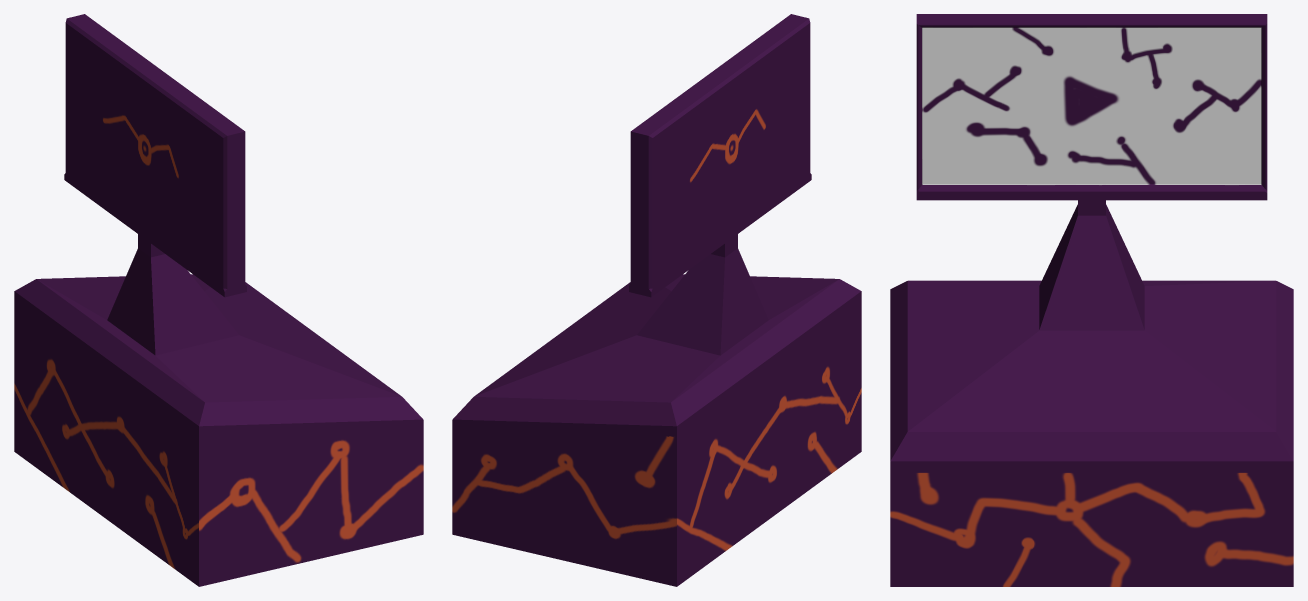
File: SpaceBox2.fbx
3 renders of one model, left to right at view 1: azimuth 30°, elevation 25°; view 2: azimuth 150°, elevation 25°; view 3: azimuth 270°, elevation 25°, orthographic. The views are drawn at different scales.
Visible parts, largest first — view 1: Spacebox1; view 2: Spacebox1; view 3: Spacebox1.
Part boxes in pixels (x1,y1,x2,y2): Spacebox1: (14,14,423,586); Spacebox1: (452,14,861,586); Spacebox1: (890,14,1293,586).
Bounding box in the file's own units: 105 × 195 × 150.
